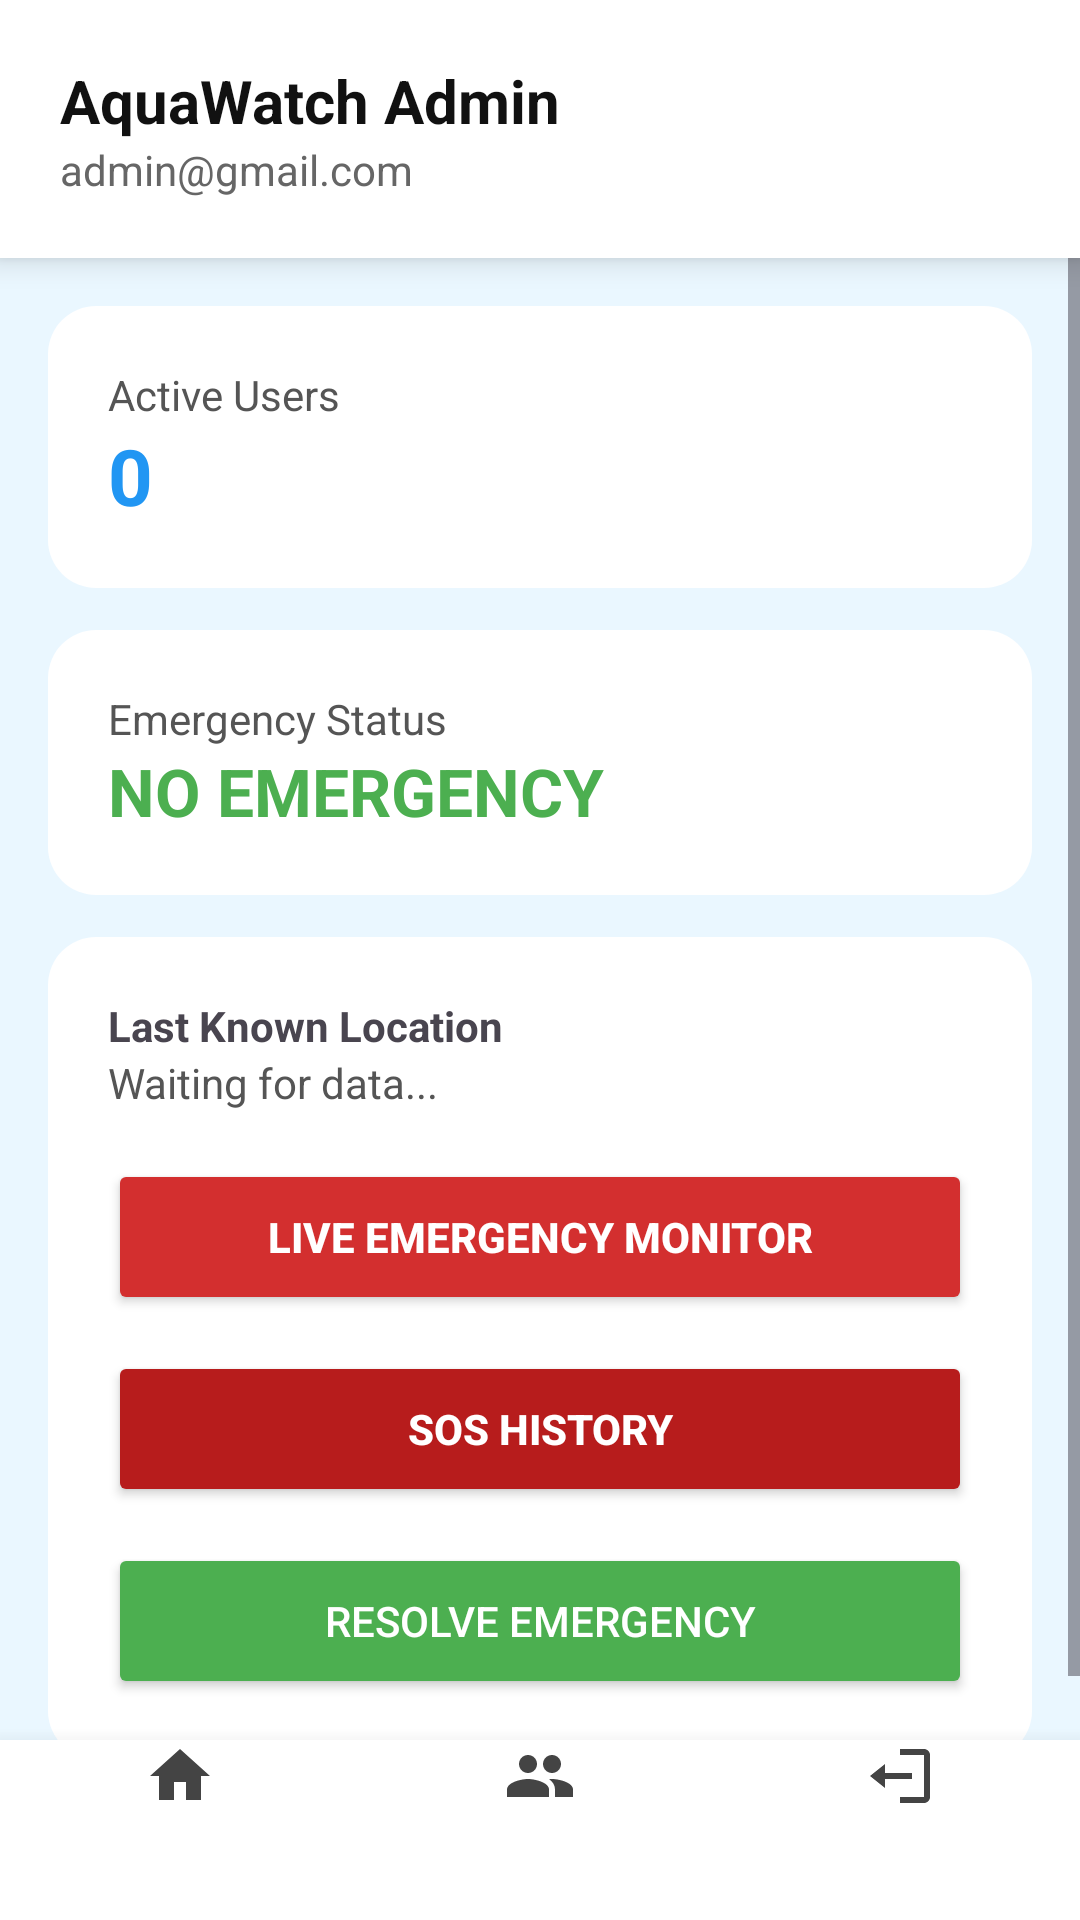

Point at icon controls on the screen. Image size 1080w x 1920h, points as [x,y].
home: [180,1774]
people: [540,1776]
